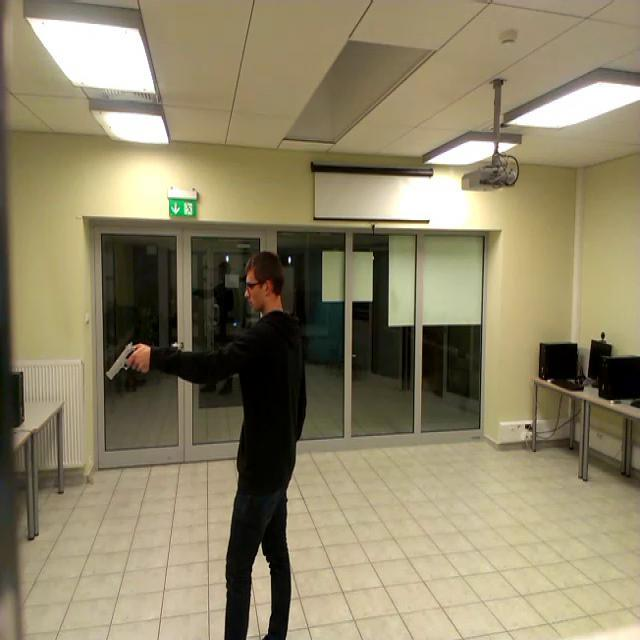Gun: (107, 340, 145, 380)
